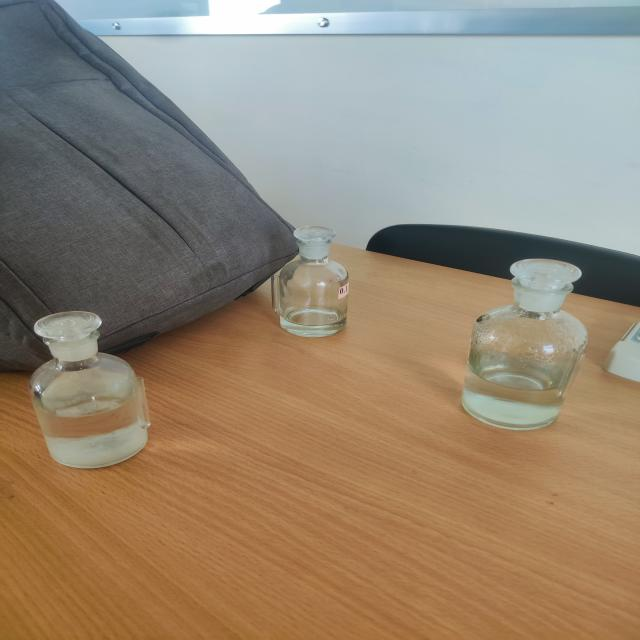Reagent_Bottle: (440, 230, 608, 452), (11, 284, 166, 496), (250, 197, 381, 361)
